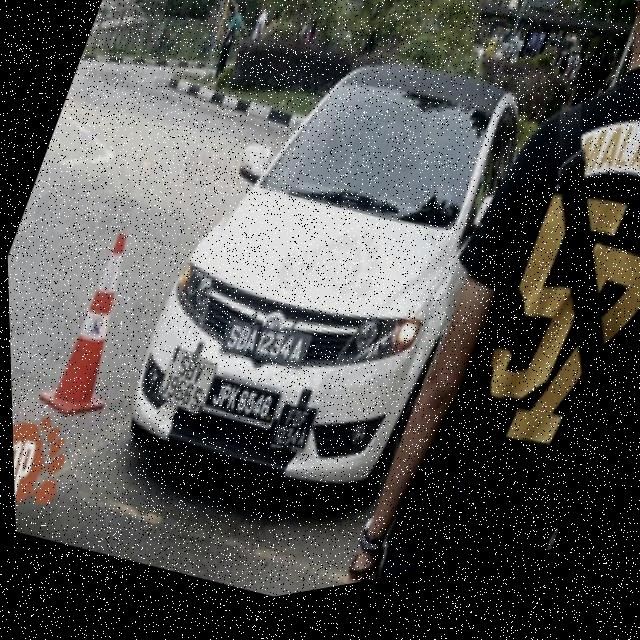license_plate: (217, 313, 310, 388)
